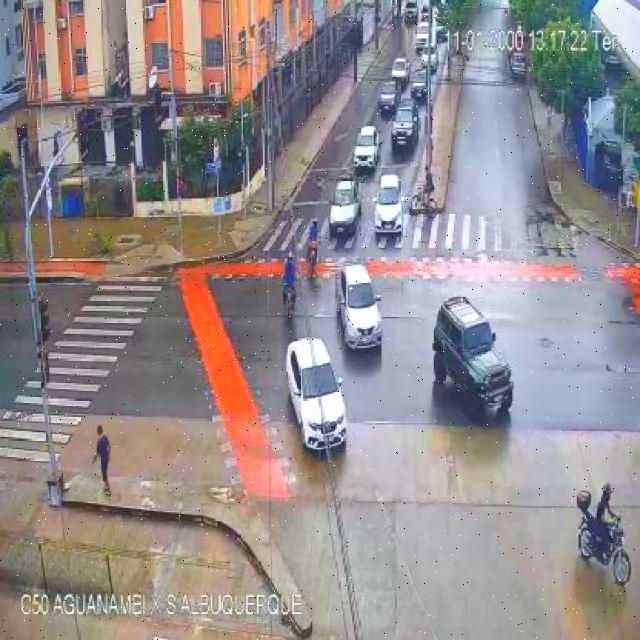car: (434, 298, 512, 409), (288, 338, 346, 450), (336, 265, 382, 349), (330, 180, 360, 243), (375, 174, 402, 238), (391, 101, 419, 145), (354, 126, 380, 169), (378, 81, 400, 119), (391, 58, 410, 90), (411, 69, 428, 103)
cyclist: (424, 172, 435, 193)
motorcyclist: (576, 484, 631, 584), (282, 251, 298, 318), (306, 220, 318, 278)
pedestrian: (94, 425, 111, 494)
traffic-lights: (41, 298, 49, 341)
